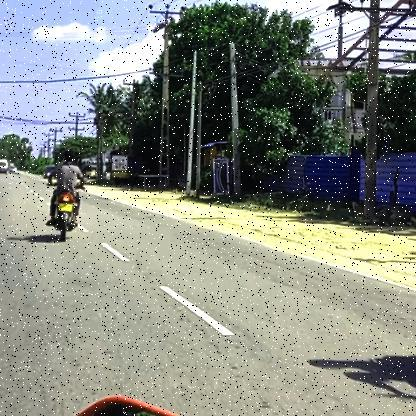motorcycle: (40, 190, 84, 245)
